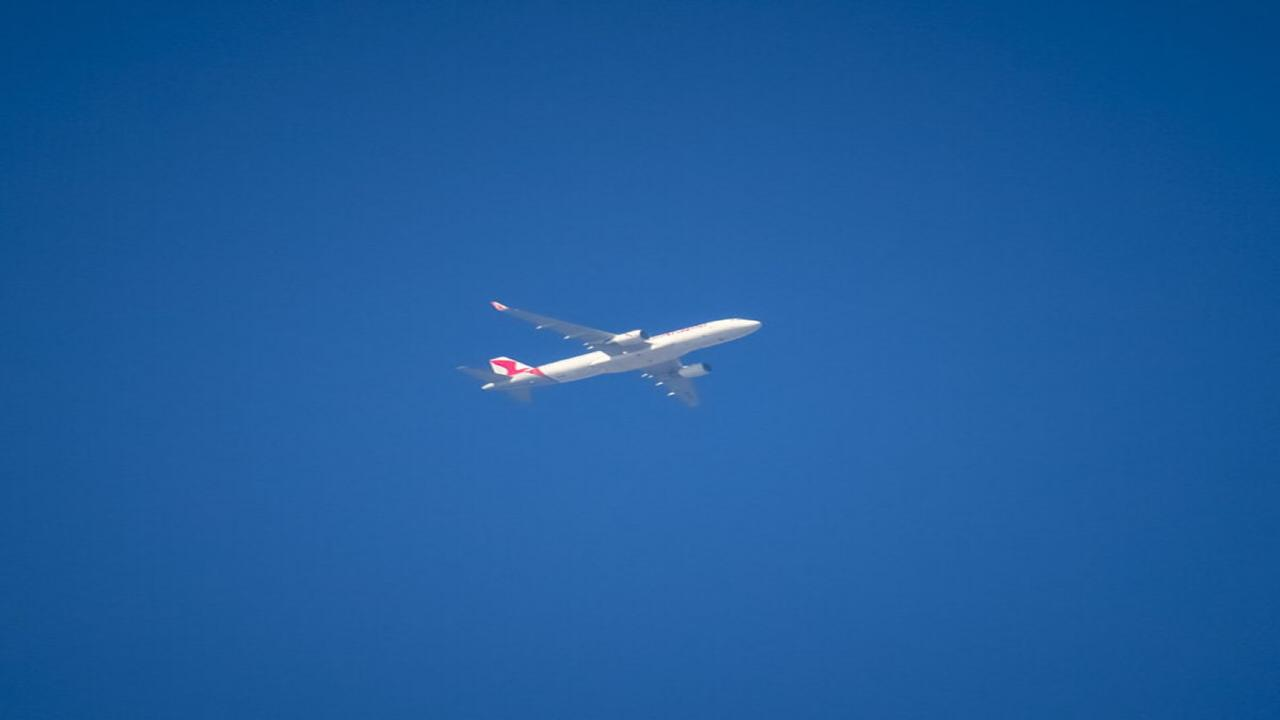Airplane: (456, 290, 790, 426)
